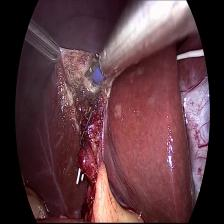Bipolar: (81, 50, 112, 95)
Grasper: (22, 20, 64, 66)
